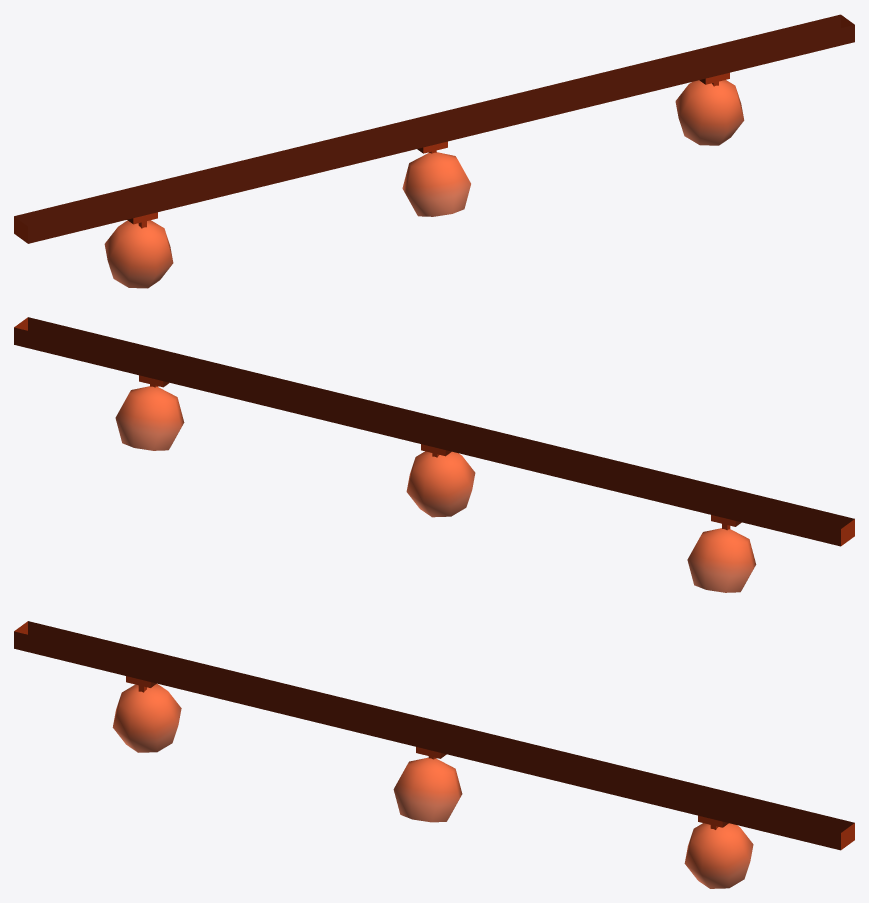
The model's file is M_cantingdeng01.FBX.
The picture shows the model from 3 angles, top to bottom: view 1: azimuth 30°, elevation 25°; view 2: azimuth 150°, elevation 25°; view 3: azimuth 330°, elevation 25°; orthographic projection.
Visible parts, largest first — view 1: M_cantingdeng01_01; view 2: M_cantingdeng01_01; view 3: M_cantingdeng01_01.
Part boxes in pixels (x1,y1,x2,y2): M_cantingdeng01_01: (14,14,854,288); M_cantingdeng01_01: (14,317,854,592); M_cantingdeng01_01: (14,621,854,888).
Bounding box in the file's own units: 3.43 × 0.37 × 0.3158.
